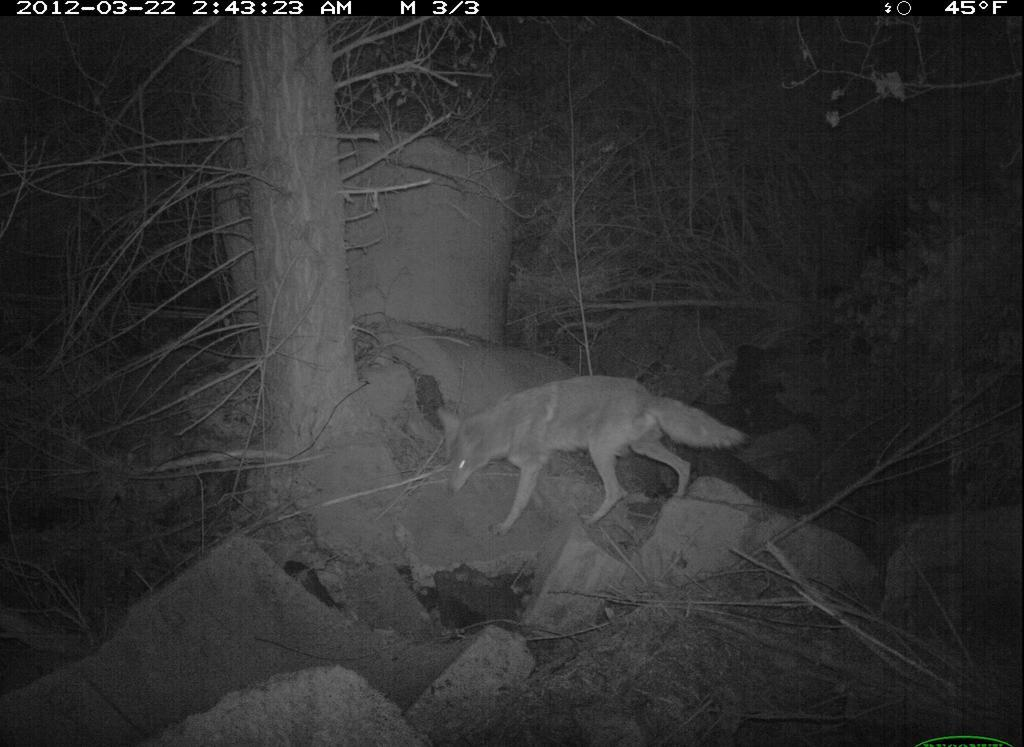coyote: (437, 374, 752, 527)
